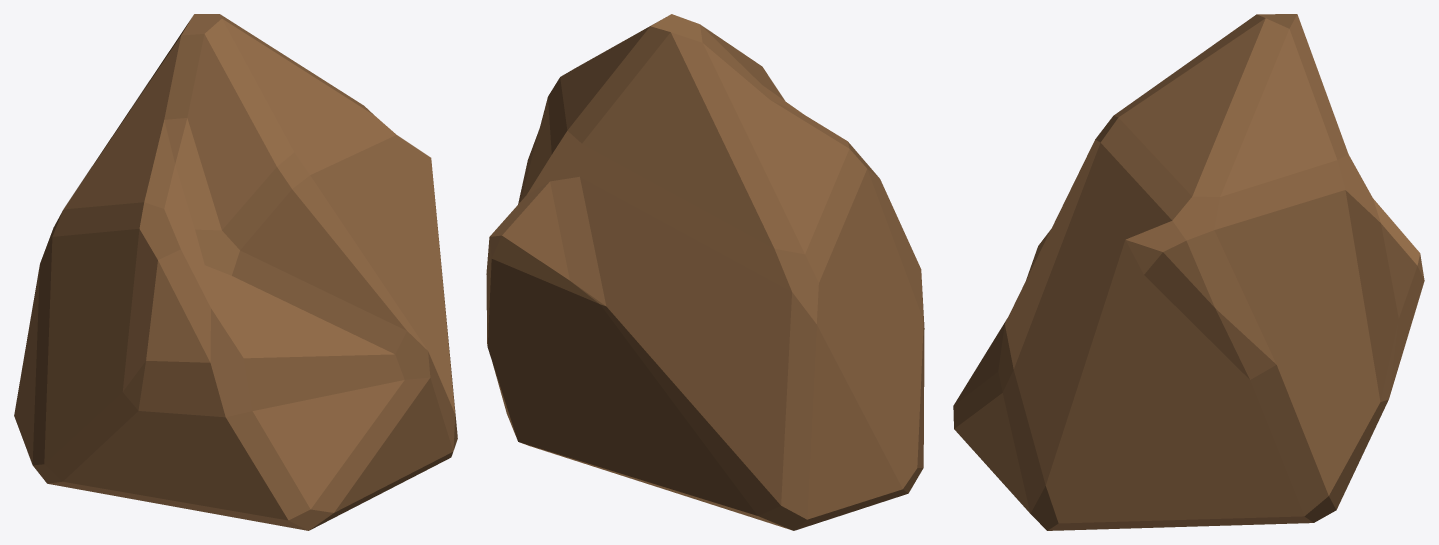
Rendered from Rock_11_Light_Brown.fbx.
3 renders of one model, left to right at view 1: azimuth 30°, elevation 25°; view 2: azimuth 150°, elevation 25°; view 3: azimuth 270°, elevation 25°, orthographic. The views are drawn at different scales.
Parts seen in each view (by area): view 1: Rock_11_Light_Brown; view 2: Rock_11_Light_Brown; view 3: Rock_11_Light_Brown.
Boxes of the visible parts, bbox=[...] form: Rock_11_Light_Brown: bbox=[14, 14, 457, 530]; Rock_11_Light_Brown: bbox=[486, 14, 924, 530]; Rock_11_Light_Brown: bbox=[953, 14, 1424, 530].
Bounding box in the file's own units: 243 × 265 × 253.
